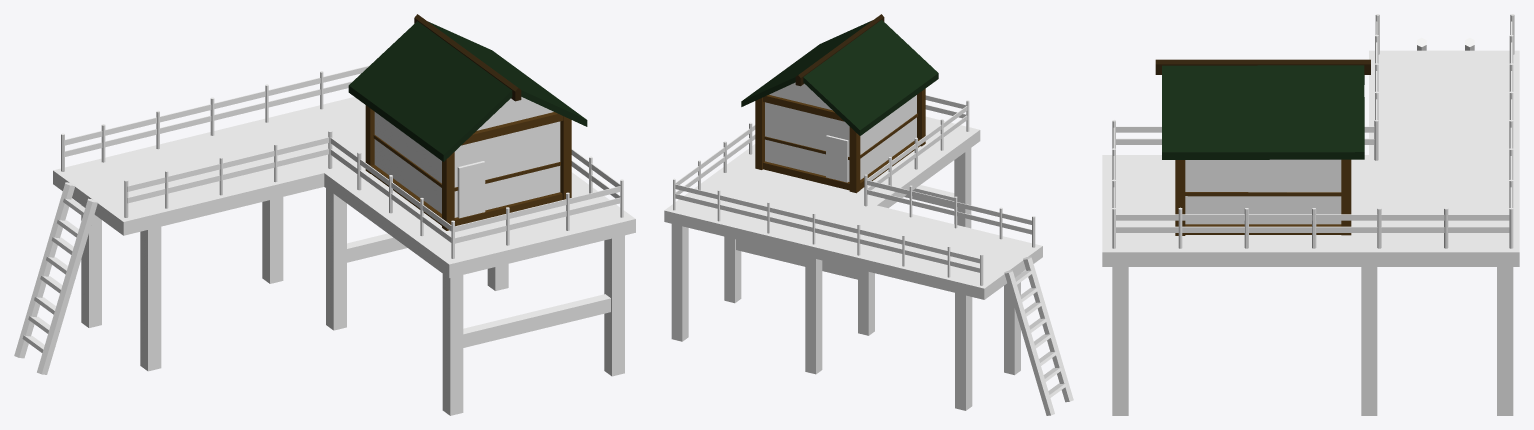
Rendered from QuarryHouse(2).fbx.
3 renders of one model, left to right at view 1: azimuth 30°, elevation 25°; view 2: azimuth 150°, elevation 25°; view 3: azimuth 270°, elevation 25°, orthographic. The views are drawn at different scales.
Parts seen in each view (by area): view 1: QuarryHouse(2); view 2: QuarryHouse(2); view 3: QuarryHouse(2).
Part boxes in pixels (left/top/right/bottom): QuarryHouse(2): left=14, top=14, right=635, bottom=415; QuarryHouse(2): left=664, top=14, right=1073, bottom=415; QuarryHouse(2): left=1102, top=14, right=1519, bottom=415.
Bounding box in the file's own units: 15.1 × 9.39 × 11.38.
